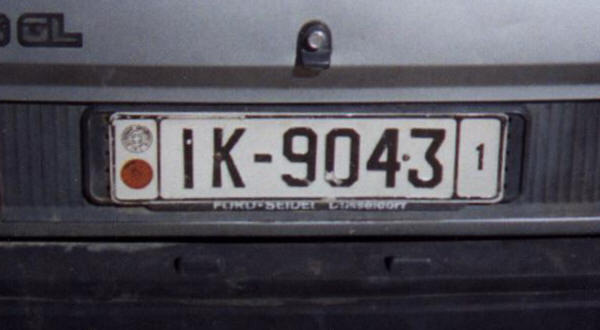license_plate: (108, 110, 508, 207)
